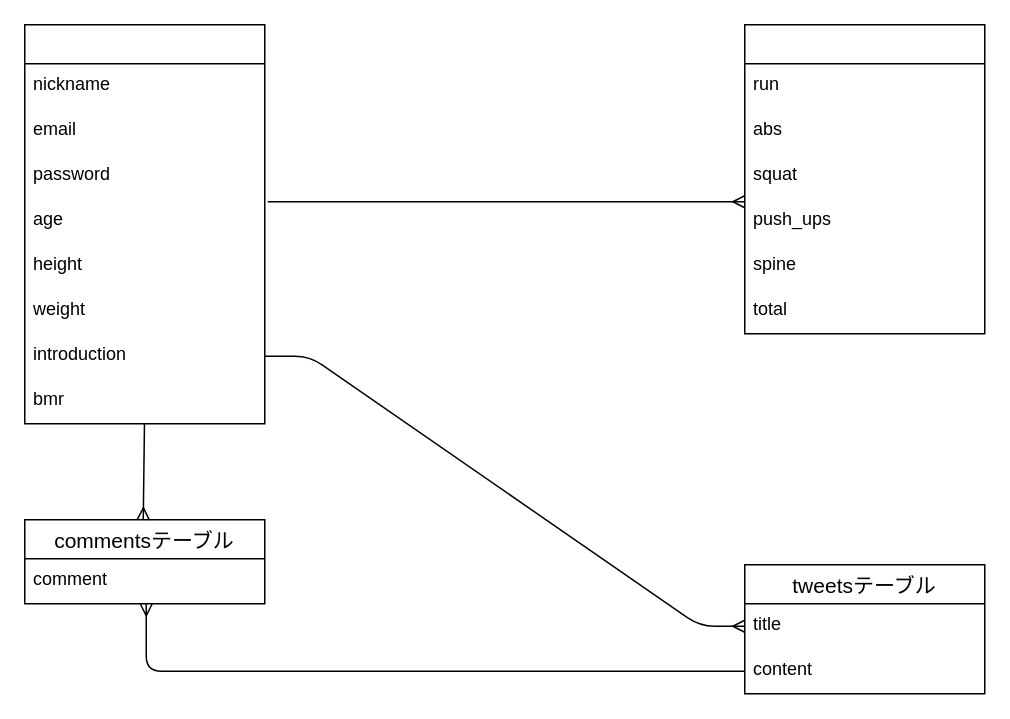
This 1010x719 diagram has some shape labels left out. Each missing label, with the box of its shape:
motionsテーブル: (743, 23, 985, 334)
usersテーブル: (23, 23, 265, 424)
